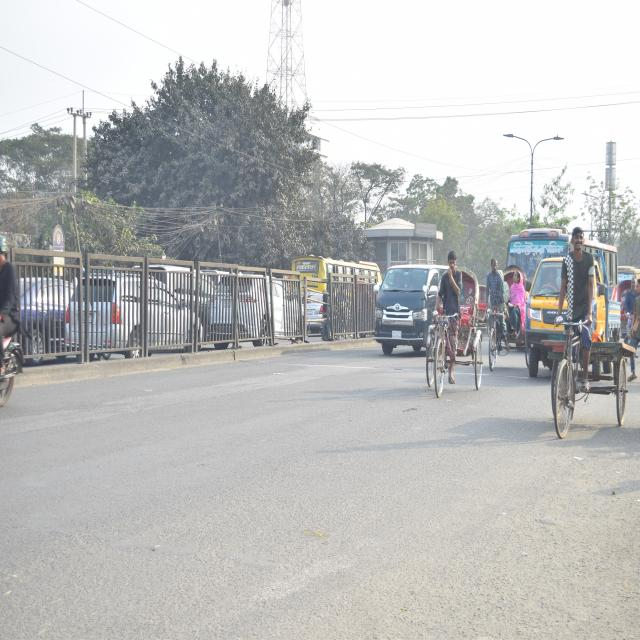bus: (503, 223, 577, 295)
microbus: (374, 262, 451, 358)
pickup-van: (530, 255, 626, 371)
